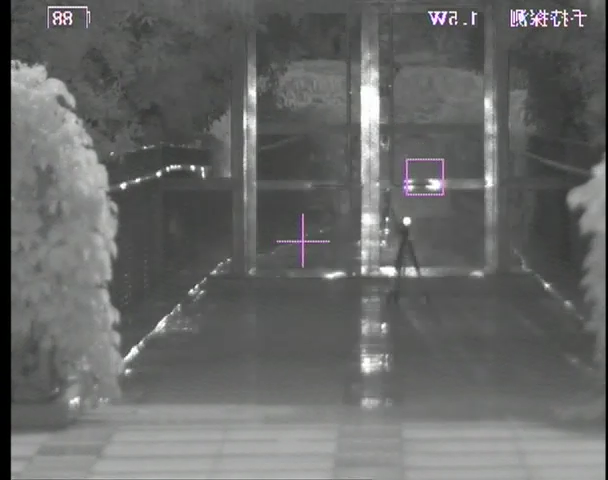my: (400, 216, 412, 226)
